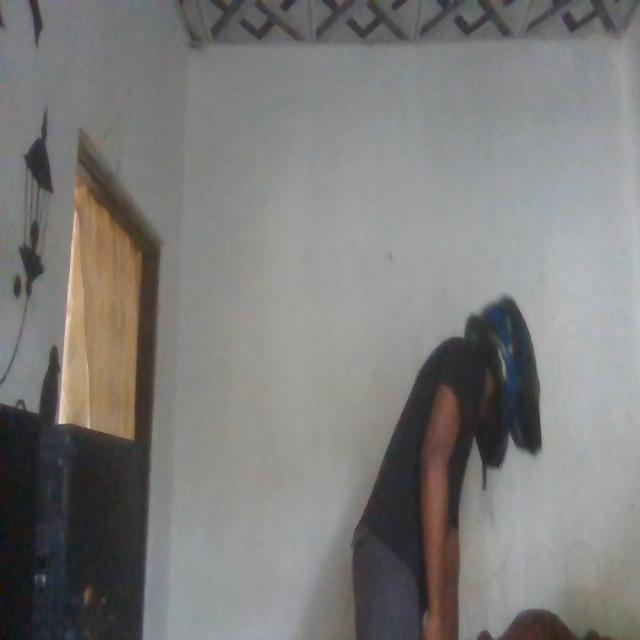Helmet_Wearer: (462, 284, 540, 478)
Person: (330, 262, 540, 640)
